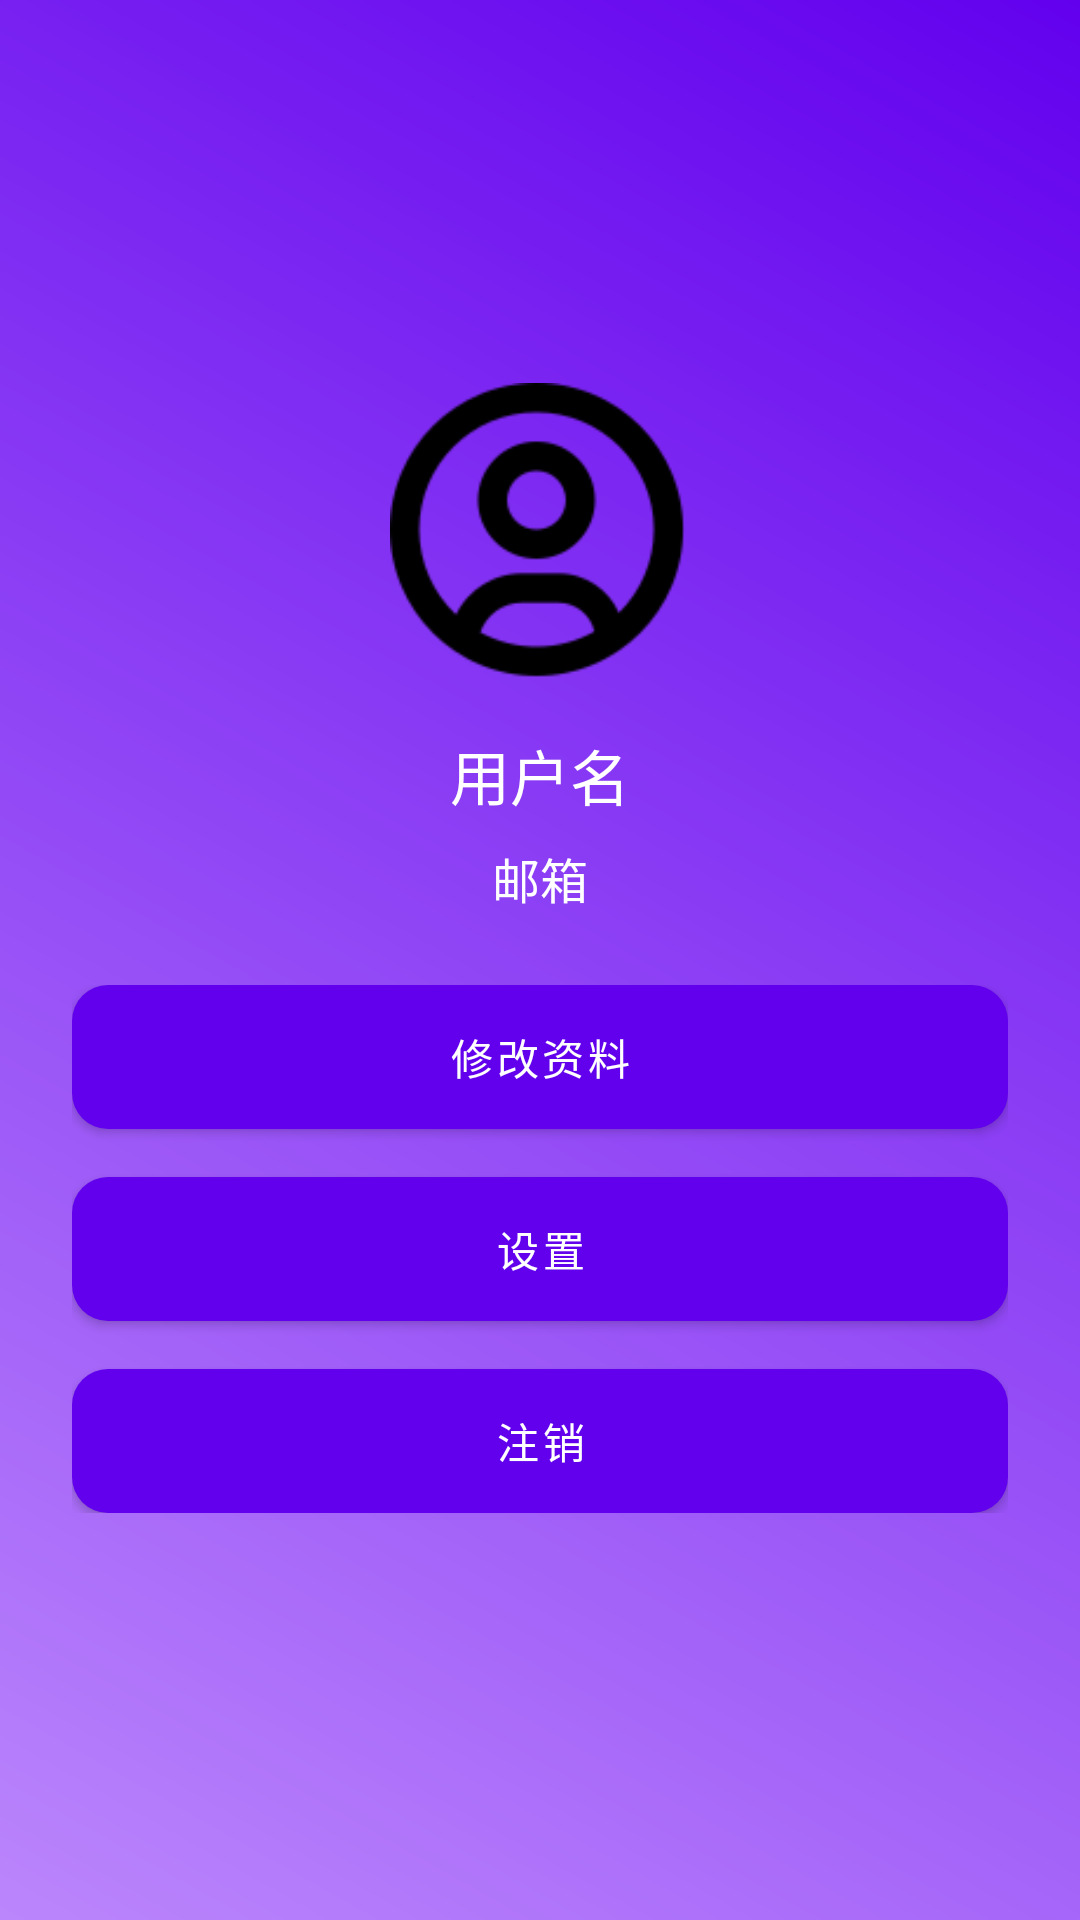

Locate icon controls on the screen. Image size 1080x1920, boxes as (x1, y1, x2, y2).
profile: (390, 383, 690, 677)
